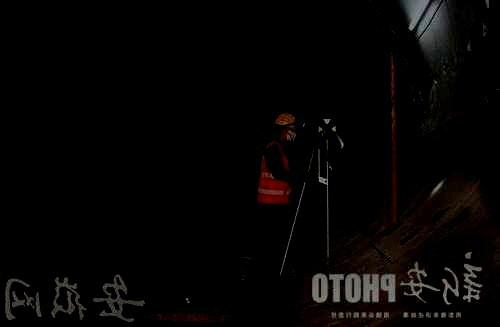helmet: (275, 112, 297, 144)
